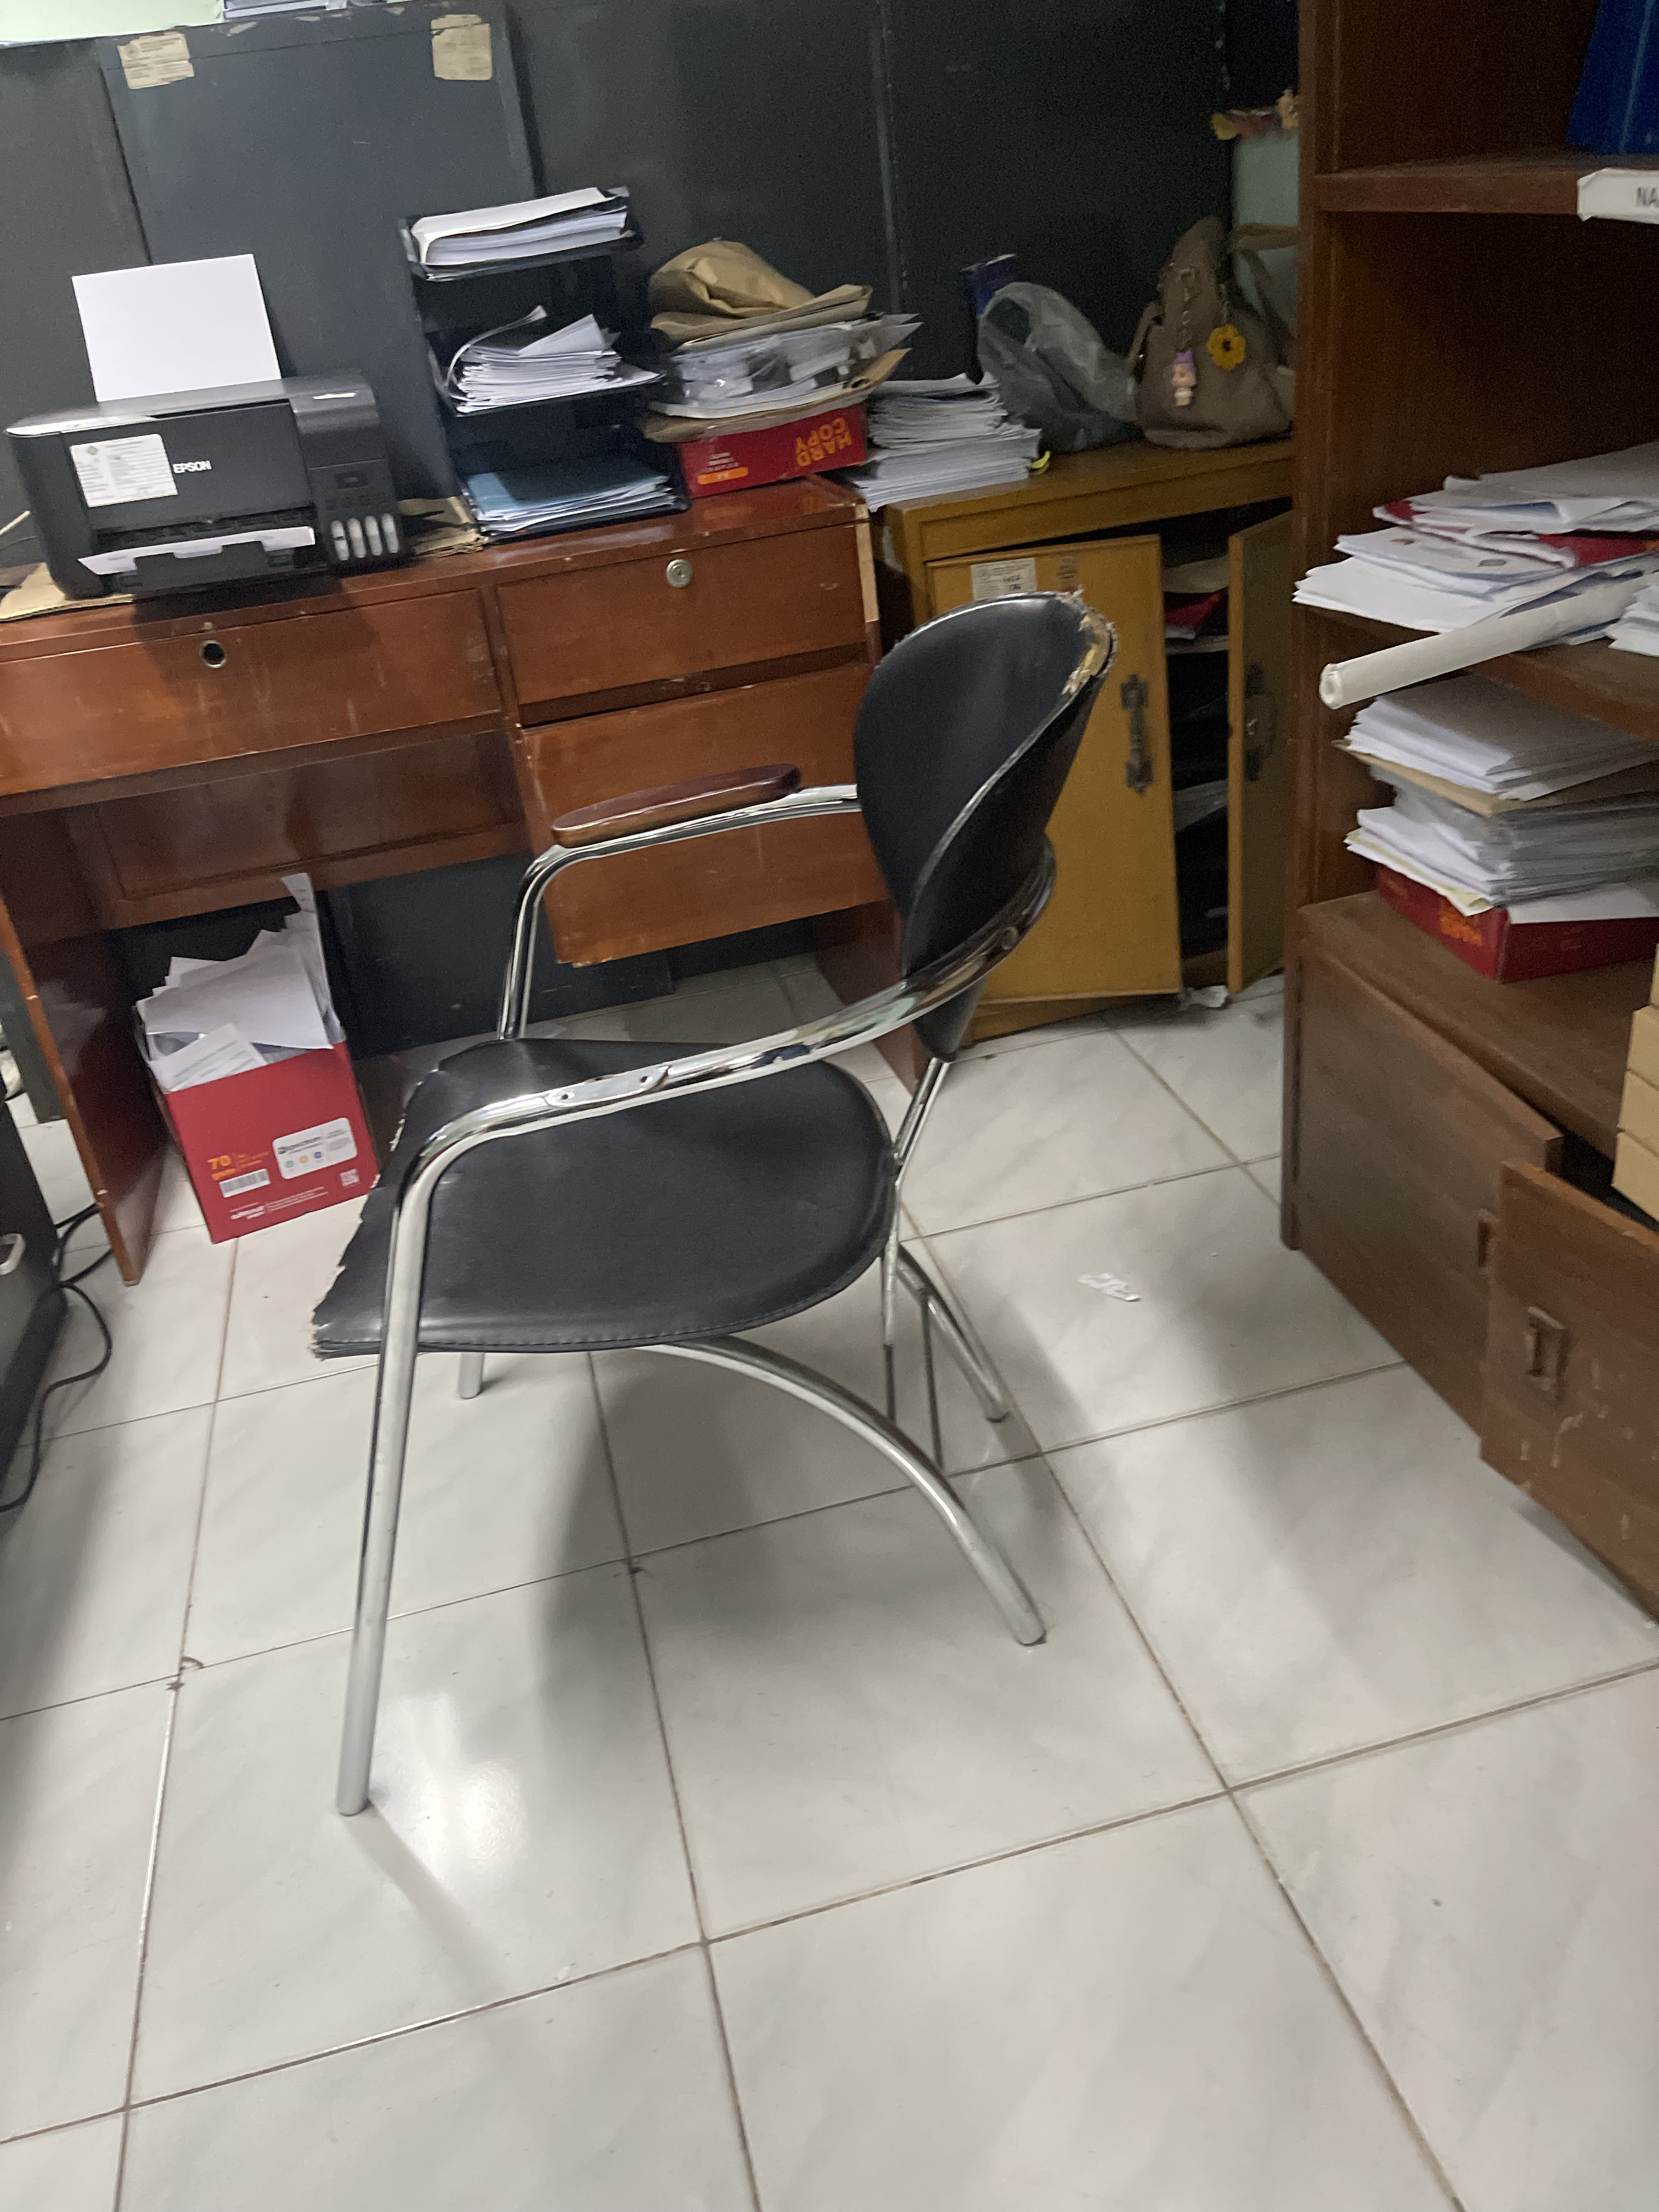chair1: (298, 589, 1124, 1817)
